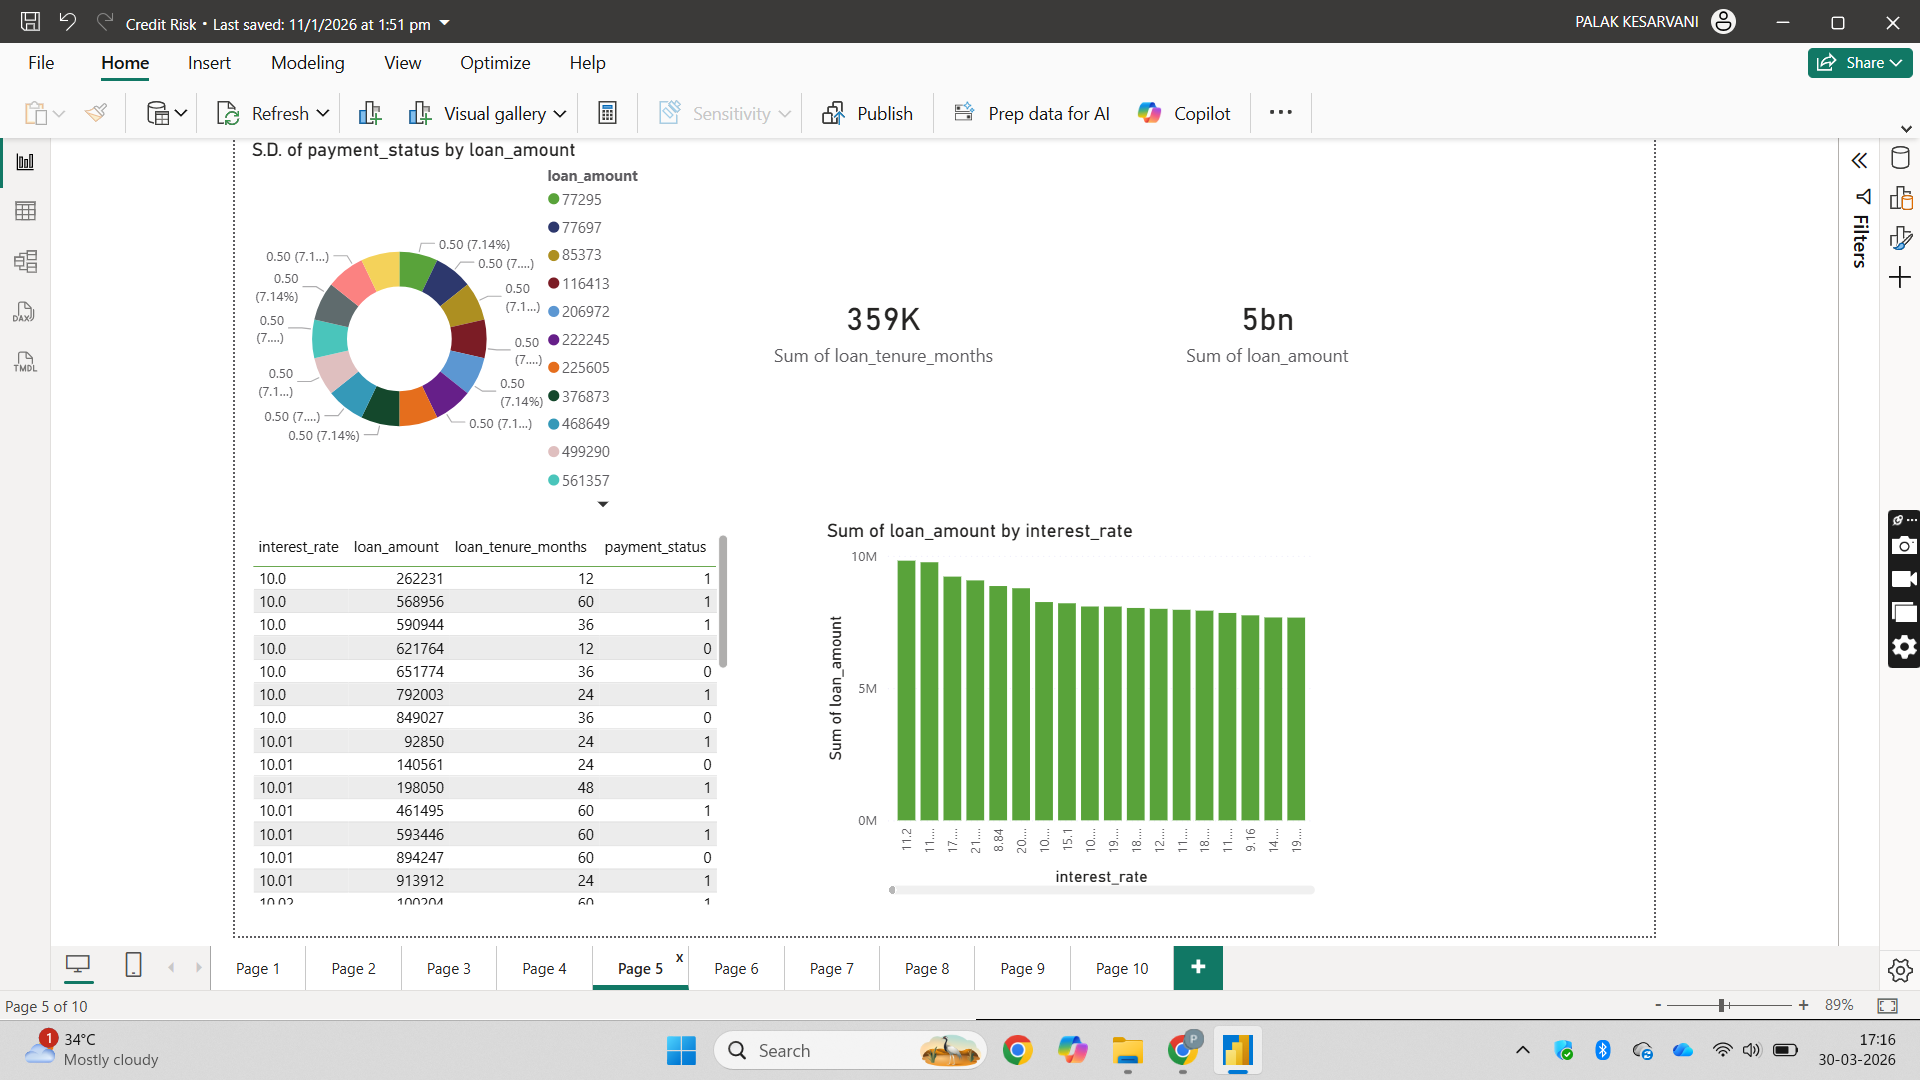

What the dashboard file says about the page in this screenshot:
{"tool":"powerbi","page":{"name":"Page 5","canvas":[1280,720],"ordinal":4},"visuals":[{"type":"donutChart","title":"S.D. of payment_status by loan_amount","fields":{"Category":["final_fraud_cleaned.loan_amount"],"Y":["Sum(final_fraud_cleaned.payment_status)"]},"box":[10.7,0,375.5,343.5],"z":0},{"type":"tableEx","fields":{"Values":["final_fraud_cleaned.interest_rate","final_fraud_cleaned.loan_amount","final_fraud_cleaned.loan_tenure_months","final_fraud_cleaned.payment_status"]},"box":[10.7,352.4,439.6,343.5],"z":1000},{"type":"columnChart","fields":{"Category":["final_fraud_cleaned.interest_rate"],"Y":["Sum(final_fraud_cleaned.loan_amount)"]},"box":[528.6,343.5,450.3,343.5],"z":2000},{"type":"card","fields":{"Values":["Sum(final_fraud_cleaned.loan_tenure_months)"]},"box":[416.5,0,338.2,343.5],"z":3000},{"type":"card","fields":{"Values":["Sum(final_fraud_cleaned.loan_amount)"]},"box":[770.6,0,320.4,343.5],"z":4000}]}

Visuals, with their boxes on the page's 1280x720 design canvas (x1, y1, x2, y2). These are canvas units, not pixel positions in the 1920x1080 screenshot, which may show the page scaled, cropped or inside an application window:
"S.D. of payment_status by loan_amount" donutChart: <region>11, 0, 386, 344</region>
tableEx - final_fraud_cleaned.interest_rate x final_fraud_cleaned.loan_amount: <region>11, 352, 450, 696</region>
columnChart - final_fraud_cleaned.interest_rate x Sum(final_fraud_cleaned.loan_amount): <region>529, 344, 979, 687</region>
card - Sum(final_fraud_cleaned.loan_tenure_months): <region>416, 0, 755, 344</region>
card - Sum(final_fraud_cleaned.loan_amount): <region>771, 0, 1091, 344</region>
